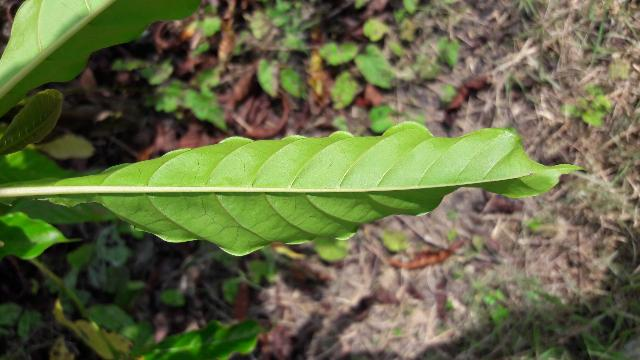healthy: (11, 124, 576, 257)
